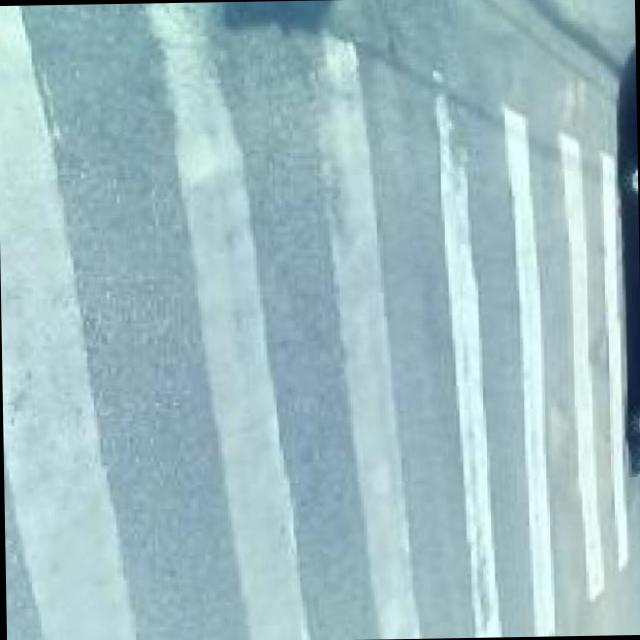zebra: (0, 1, 640, 640)
